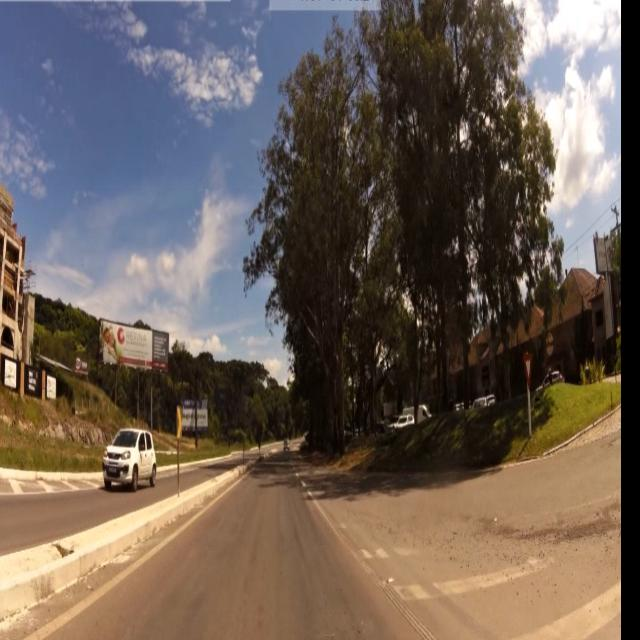R-2: (519, 350, 537, 390)
